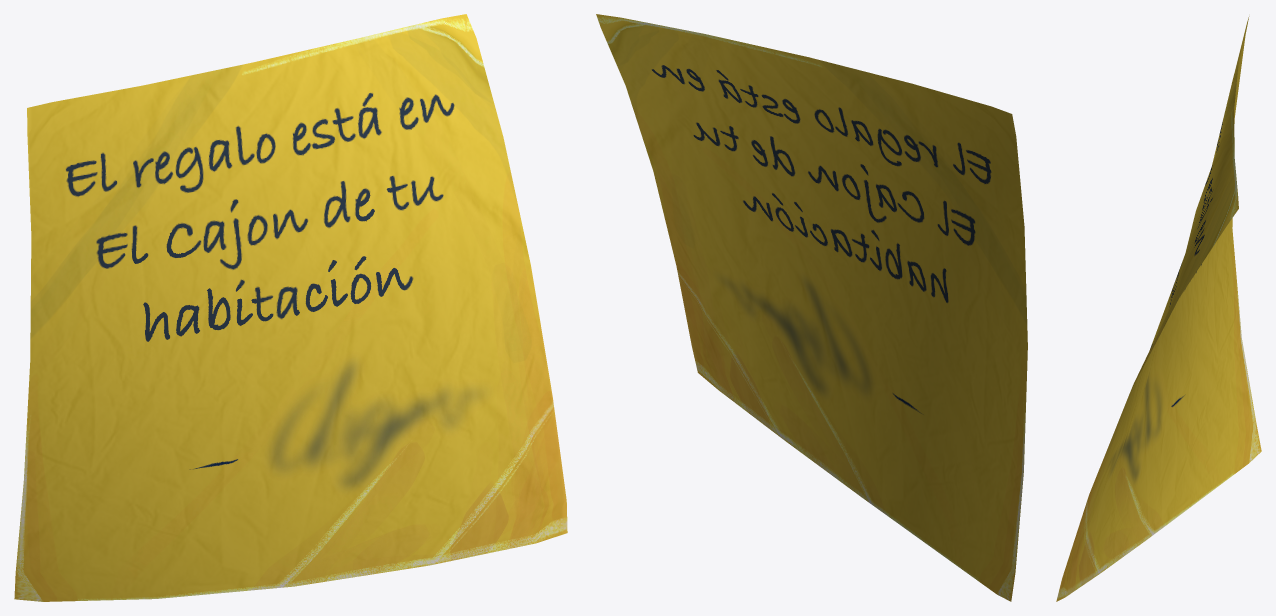
The model's file is Postitreducido.fbx.
3 views of the same model, side by side, from view 1: azimuth 30°, elevation 25°; view 2: azimuth 150°, elevation 25°; view 3: azimuth 270°, elevation 25° (orthographic). The views are drawn at different scales.
Visible parts, largest first — view 1: Plane; view 2: Plane; view 3: Plane.
Boxes of the visible parts, left/top/right/bottom form: Plane: left=14, top=14, right=567, bottom=601; Plane: left=596, top=14, right=1027, bottom=601; Plane: left=1056, top=16, right=1261, bottom=601.
Bounding box in the file's own units: 74.78 × 80.22 × 33.68.
Materials: 1 (1 with a texture image).
